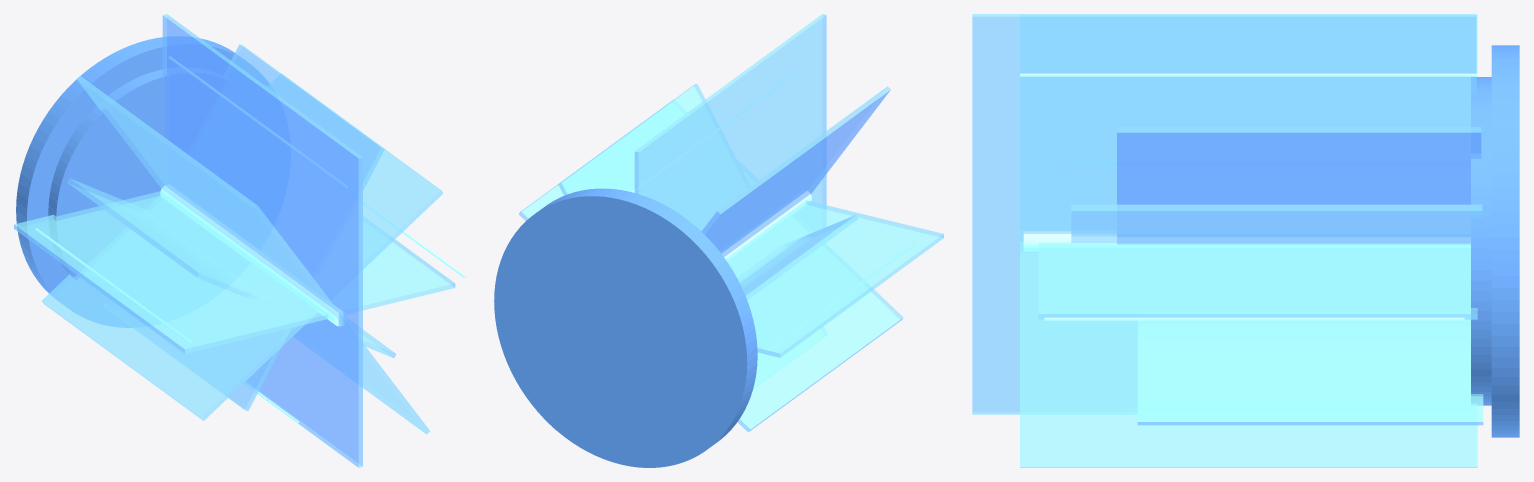
File: monument_lv2_wide_intersecting_panels_v03.glb
3 views of the same model, side by side, from view 1: azimuth 30°, elevation 25°; view 2: azimuth 150°, elevation 25°; view 3: azimuth 270°, elevation 25° (orthographic). The views are drawn at different scales.
Parts seen in each view (by area): view 1: Panel_01_Wide_Back, Panel_04_Diagonal_B, Panel_02_Wide_Left, Panel_06_Cross_Slab, Base_Upper, Panel_03_Diagonal_A, Base_Lower, Panel_05_Front_Short, Central_Glow_Core, Selective_Edge_Glow_4, Selective_Edge_Glow_1; view 2: Base_Lower, Panel_01_Wide_Back, Panel_04_Diagonal_B, Panel_02_Wide_Left, Panel_06_Cross_Slab, Panel_03_Diagonal_A, Panel_05_Front_Short, Central_Glow_Core, Selective_Edge_Glow_4; view 3: Panel_03_Diagonal_A, Panel_01_Wide_Back, Panel_06_Cross_Slab, Panel_05_Front_Short, Panel_02_Wide_Left, Panel_04_Diagonal_B, Base_Lower, Base_Upper, Central_Glow_Core, Selective_Edge_Glow_4, Selective_Edge_Glow_2.
Part boxes in pixels (left/top/right/bottom): Panel_01_Wide_Back: left=162, top=14, right=362, bottom=467; Panel_04_Diagonal_B: left=42, top=73, right=443, bottom=420; Panel_02_Wide_Left: left=14, top=191, right=455, bottom=353; Panel_06_Cross_Slab: left=103, top=44, right=384, bottom=411; Base_Upper: left=48, top=67, right=229, bottom=305; Panel_03_Diagonal_A: left=76, top=76, right=429, bottom=434; Base_Lower: left=16, top=36, right=269, bottom=327; Panel_05_Front_Short: left=67, top=178, right=396, bottom=357; Central_Glow_Core: left=160, top=185, right=347, bottom=326; Selective_Edge_Glow_4: left=169, top=56, right=347, bottom=187; Selective_Edge_Glow_1: left=35, top=228, right=192, bottom=343; Base_Lower: left=494, top=188, right=757, bottom=467; Panel_01_Wide_Back: left=634, top=14, right=826, bottom=252; Panel_04_Diagonal_B: left=518, top=99, right=903, bottom=432; Panel_02_Wide_Left: left=726, top=200, right=943, bottom=357; Panel_06_Cross_Slab: left=558, top=84, right=827, bottom=387; Panel_03_Diagonal_A: left=552, top=86, right=890, bottom=429; Panel_05_Front_Short: left=739, top=215, right=858, bottom=300; Central_Glow_Core: left=720, top=190, right=811, bottom=261; Selective_Edge_Glow_4: left=632, top=68, right=802, bottom=192; Panel_03_Diagonal_A: left=1020, top=15, right=1477, bottom=467; Panel_01_Wide_Back: left=972, top=14, right=1476, bottom=414; Panel_06_Cross_Slab: left=1117, top=127, right=1481, bottom=244; Panel_05_Front_Short: left=1137, top=319, right=1483, bottom=425; Panel_02_Wide_Left: left=1038, top=242, right=1477, bottom=319; Panel_04_Diagonal_B: left=1071, top=204, right=1482, bottom=242; Base_Lower: left=1491, top=45, right=1519, bottom=437; Base_Upper: left=1471, top=77, right=1491, bottom=405; Central_Glow_Core: left=1023, top=231, right=1470, bottom=251; Selective_Edge_Glow_4: left=1020, top=73, right=1477, bottom=76; Selective_Edge_Glow_2: left=1044, top=317, right=1464, bottom=320.
Bounding box in the file's own units: 2.25 × 2.38 × 2.93.
